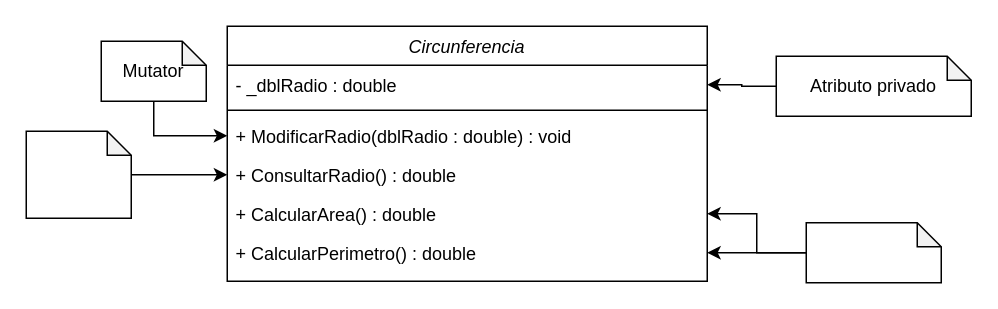
The diagram is 998 pixels wide and 309 high, and some of its shapes have lost their labels. Here are the shapes that lost their labels. From the top down, the centre of each, then its label:
the point at 78,174: Accessor
the point at 873,252: Métodos publicos
